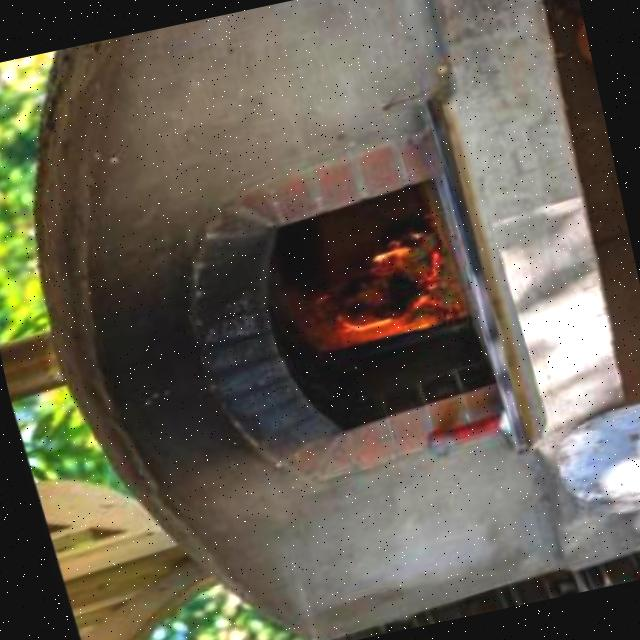fire: (269, 215, 463, 372)
